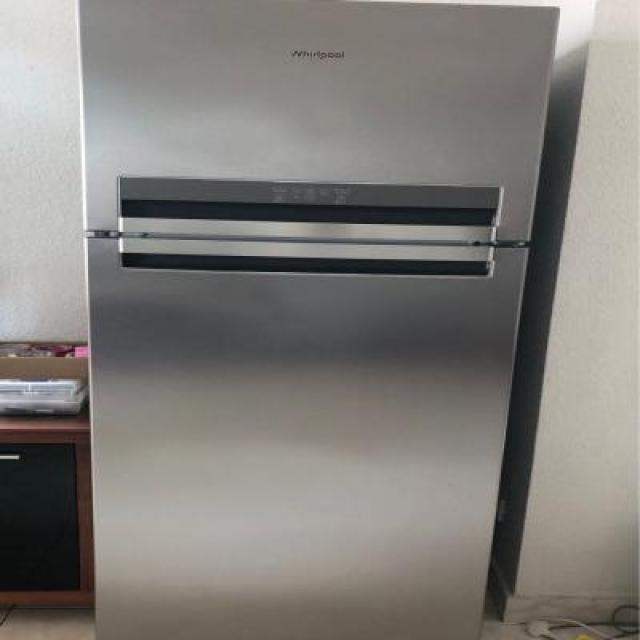refrigerator: (78, 0, 564, 640)
